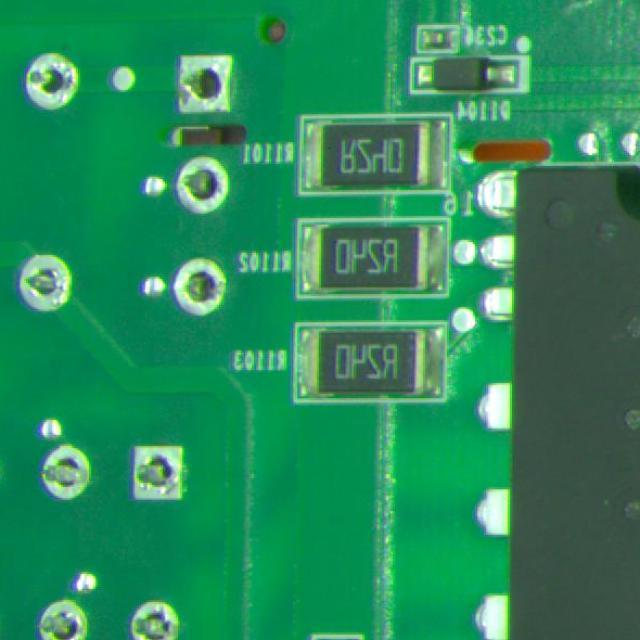Insufficient solder: (124, 432, 196, 508), (171, 46, 240, 124), (40, 435, 108, 501), (15, 246, 78, 317), (172, 254, 234, 324), (174, 153, 238, 218), (23, 52, 84, 107), (125, 595, 185, 640), (35, 602, 93, 640)
